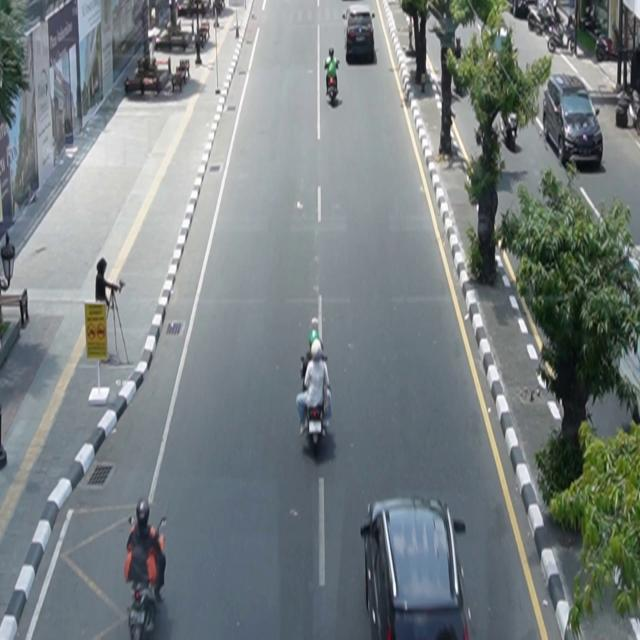car: (361, 497, 473, 640), (343, 5, 376, 65)
